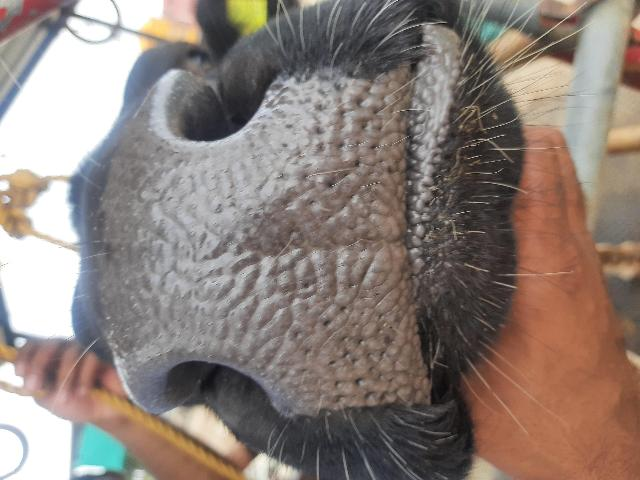Muzzle: (128, 148, 406, 358)
